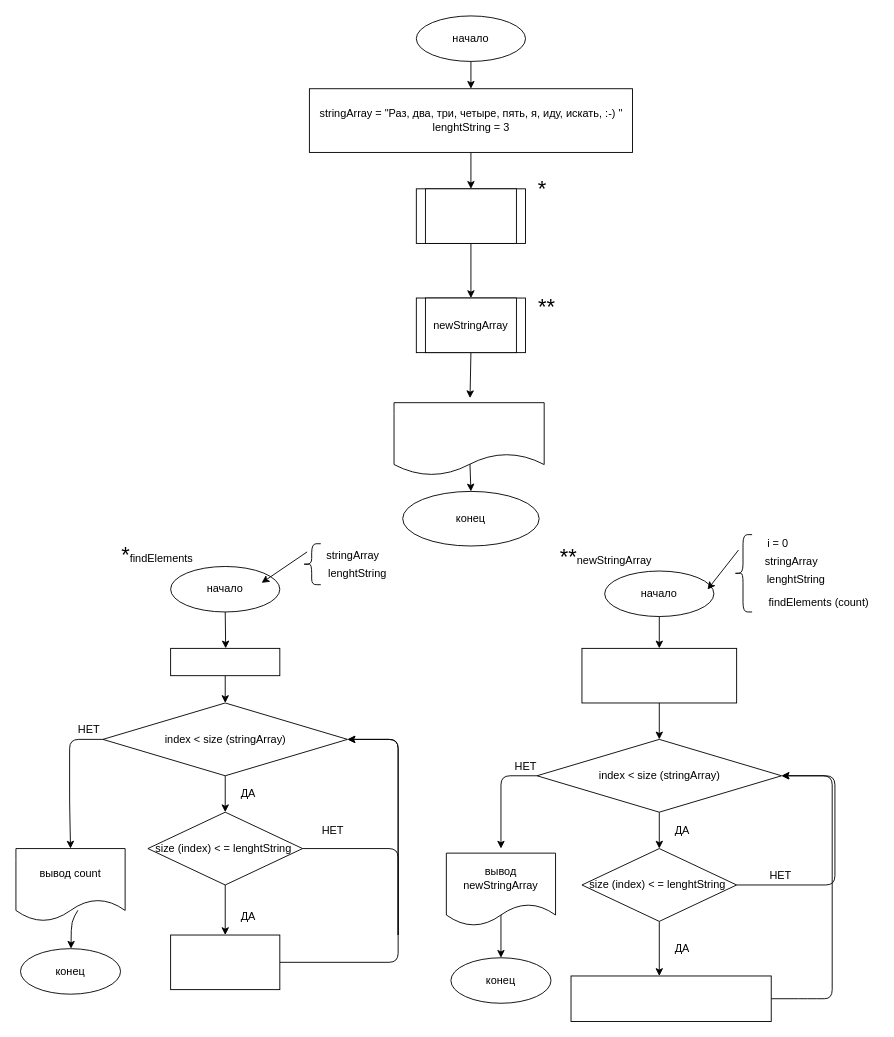
The diagram is 894 pixels wide and 1037 high, and some of its shapes have lost their labels. The shapes that lost their labels are listed below. From the top down, each one's centre as x and y in pixels, then its label:
At [470,215]: "findElements".
At [468,438]: "вывод newStringArray stringArray".
At [225,661]: "count = 0".
At [659,675]: "newStringArray size (newStringArray) = findElements (count)".
At [225,962]: "count + 1".
At [670,998]: "newStringArray[i] = stringArray[index] i+1".
